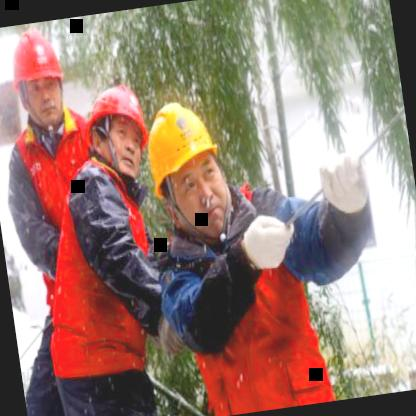helmet: (134, 92, 238, 250), (76, 72, 158, 192), (0, 19, 74, 143)
